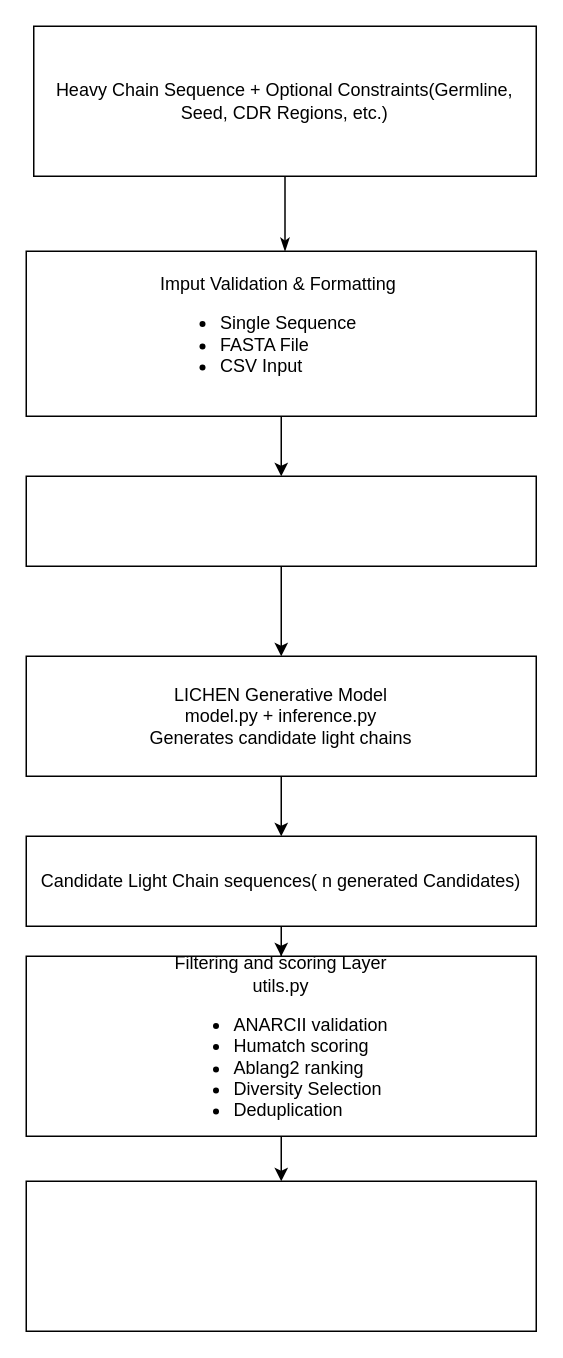
Image size: 563x1358. Some labels were removed from this diagram. Here are the shapes that lost their labels. From the top down, the box of each, then its label:
(25, 475, 536, 566): Tokenizer Tokenizer.py + vocab.json Converts amino acids to tokens
(25, 1180, 536, 1331): Output Python DataFrame CSV Export Ranked Light Chains
